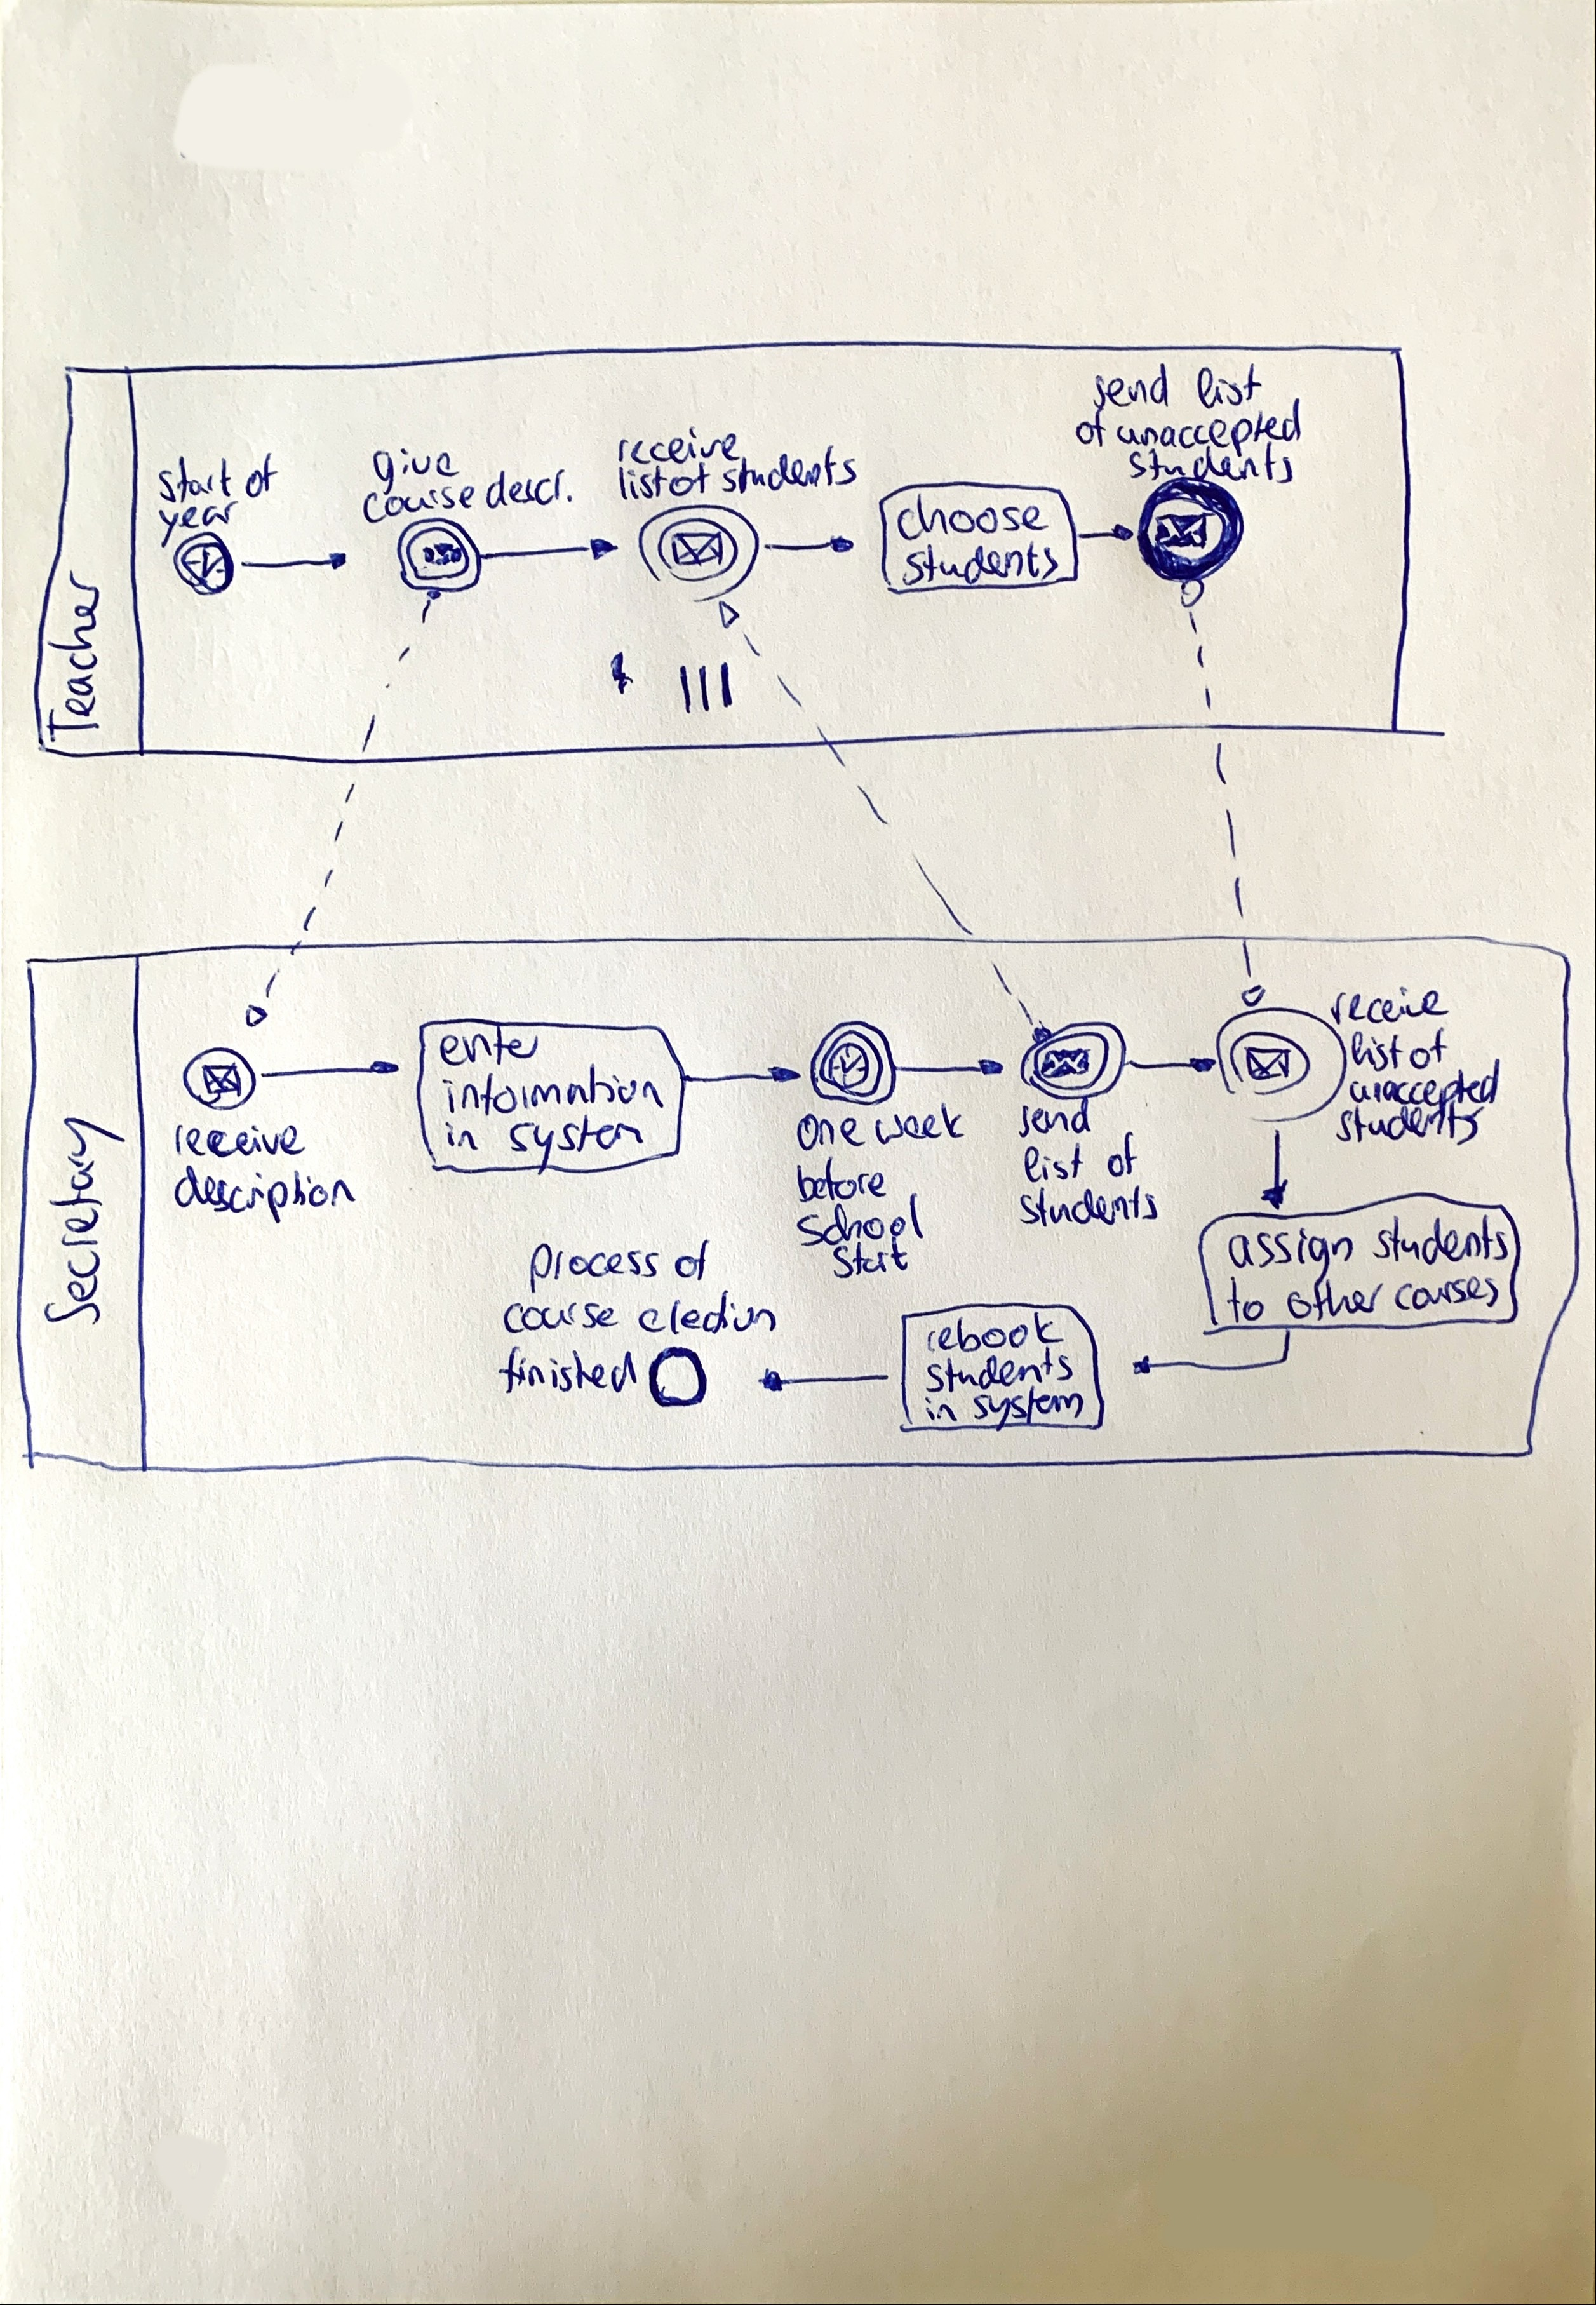III: (673, 666, 737, 714)
School: (794, 1193, 926, 1249)
Secretary: (41, 1116, 127, 1327)
Start: (156, 456, 234, 504), (828, 1246, 908, 1285)
Students: (1017, 1183, 1160, 1228)
Teacher: (46, 569, 101, 743)
assign: (1225, 1227, 1356, 1288)
before: (795, 1157, 889, 1204)
choose: (894, 494, 1047, 542)
course: (500, 1301, 621, 1336), (358, 494, 476, 527)
courses: (1391, 1284, 1500, 1316)
descr.: (483, 471, 572, 511)
description: (172, 1165, 358, 1224)
election: (637, 1290, 777, 1336)
enter: (437, 1025, 541, 1068)
finished: (498, 1345, 636, 1394)
give: (372, 447, 461, 496)
in: (443, 1120, 481, 1153), (923, 1395, 960, 1422)
information: (441, 1073, 666, 1120)
list: (1195, 362, 1265, 410), (1021, 1143, 1087, 1185), (1350, 1030, 1405, 1073), (617, 464, 667, 502)
of: (1407, 1026, 1450, 1070), (673, 1237, 711, 1282), (1106, 1130, 1141, 1178), (244, 451, 279, 499), (667, 461, 712, 499), (1073, 408, 1109, 450)
one: (795, 1113, 866, 1153)
other: (1286, 1279, 1385, 1321)
process: (527, 1241, 661, 1296)
rebook: (924, 1319, 1063, 1357)
receive: (616, 426, 741, 467), (173, 1122, 306, 1158), (1327, 991, 1447, 1029)
send: (1092, 363, 1170, 410), (1016, 1098, 1093, 1139)
students: (1372, 1214, 1512, 1266), (902, 542, 1061, 588), (923, 1351, 1075, 1395), (1334, 1101, 1485, 1146), (1125, 443, 1297, 484), (718, 455, 859, 497)
system: (507, 1113, 645, 1176), (972, 1385, 1085, 1431)
to: (1224, 1275, 1266, 1322)
unaccepted: (1115, 396, 1304, 459), (1346, 1059, 1503, 1115)
week: (872, 1102, 964, 1147)
year: (158, 499, 240, 548)
